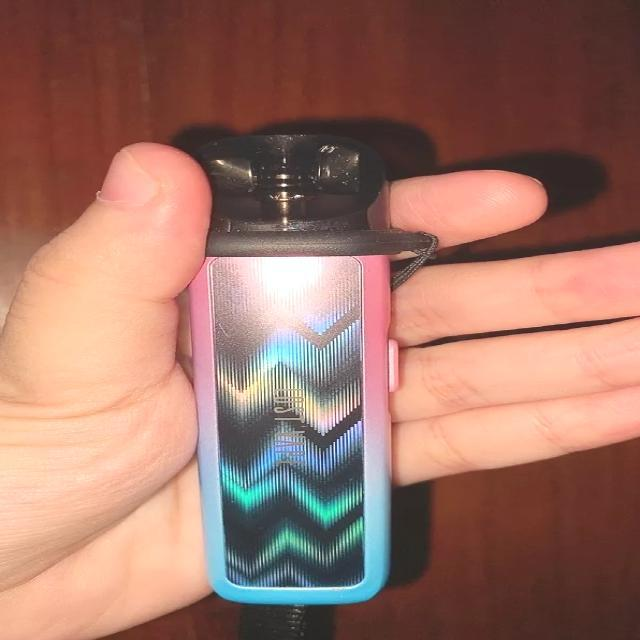Hazard: (197, 126, 393, 599)
